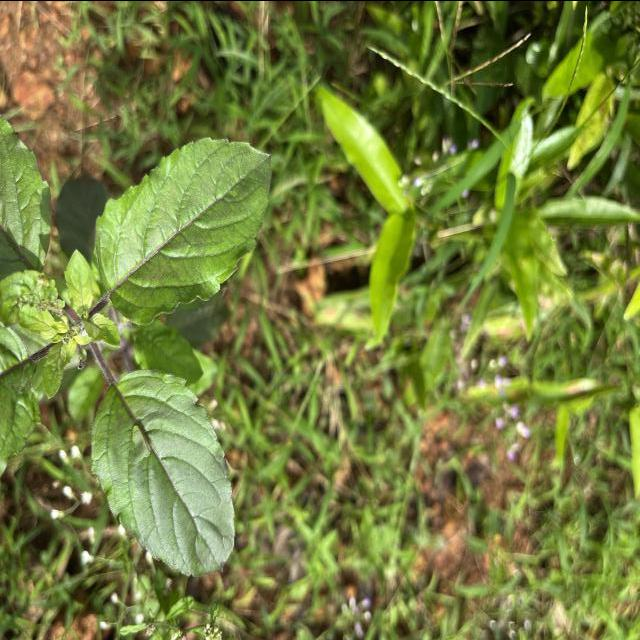Ocimum tenuiflorum: (94, 134, 272, 327), (90, 367, 236, 578)
